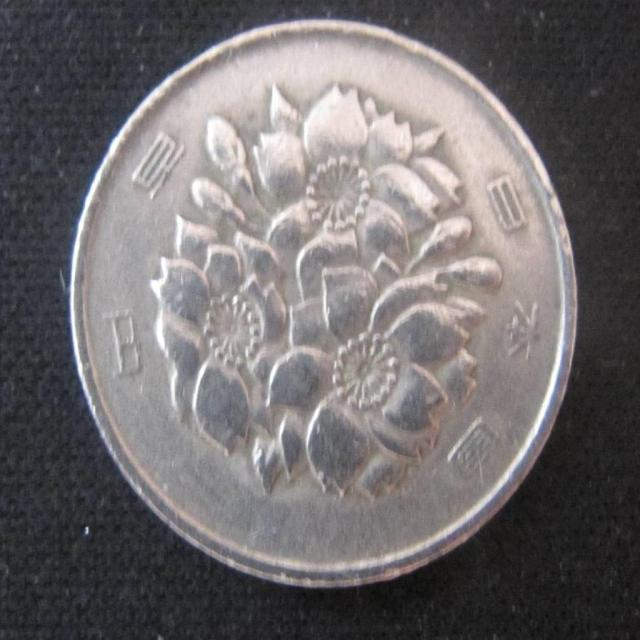Coin: (68, 18, 586, 587)
